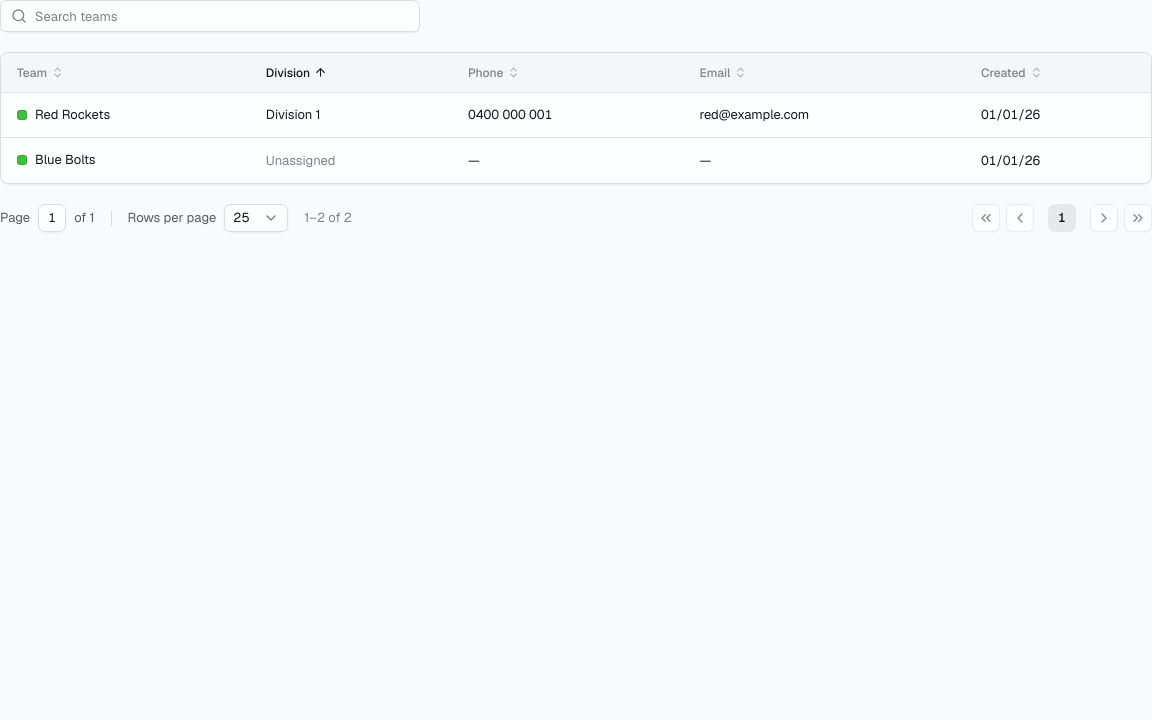
Test: TeamsPage › opens a read-only team card for players
Click the text "Red Rockets": coordinates (73, 115) x1=35 y1=105 x2=110 y2=124
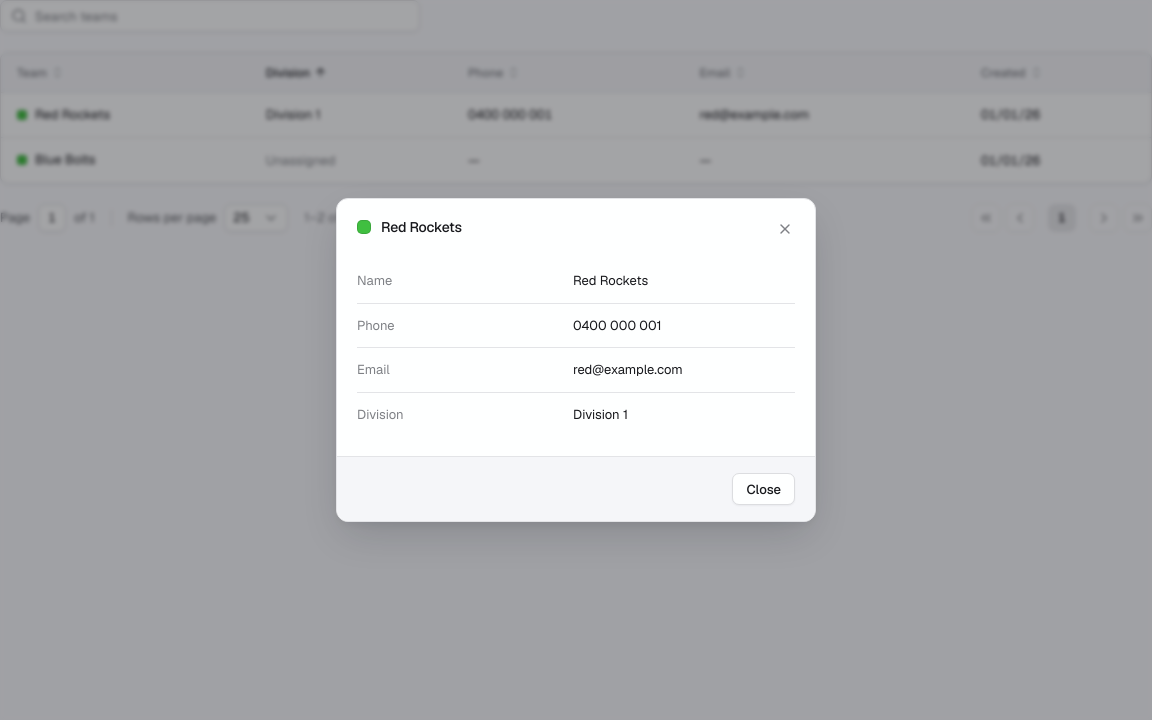
Check: the text "red@example.com" is shown, box x1=573 y1=361 x2=683 y2=378
Check: the text "0400 000 001" is shown, box x1=573 y1=317 x2=662 y2=334
// Footer button (the header × shares the name).
Click the button "Close": coordinates (764, 489) x1=732 y1=473 x2=795 y2=505
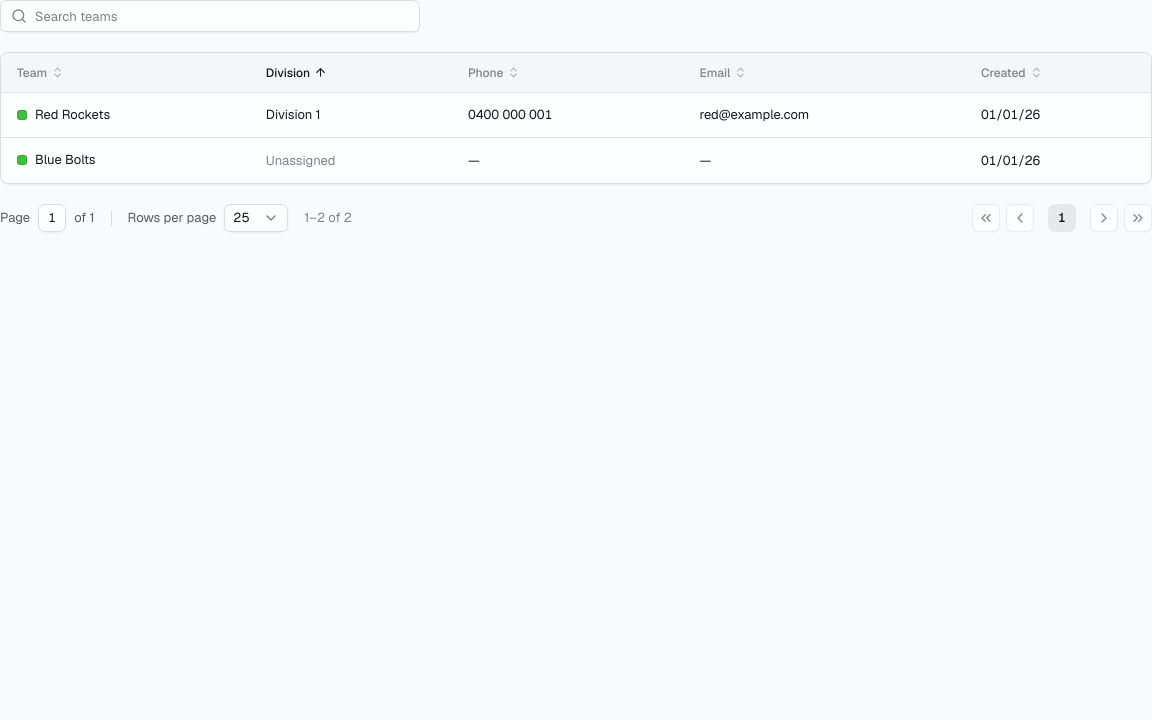
Check: the dialog is gone
